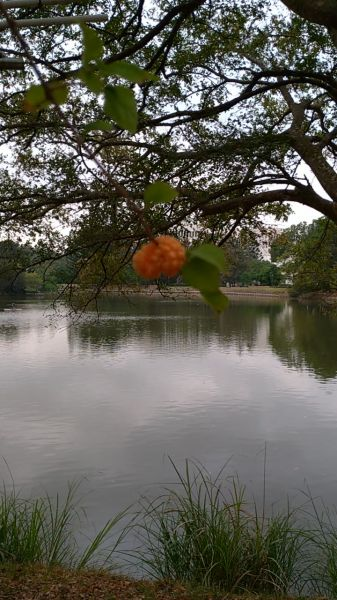eggs: (125, 230, 190, 284)
